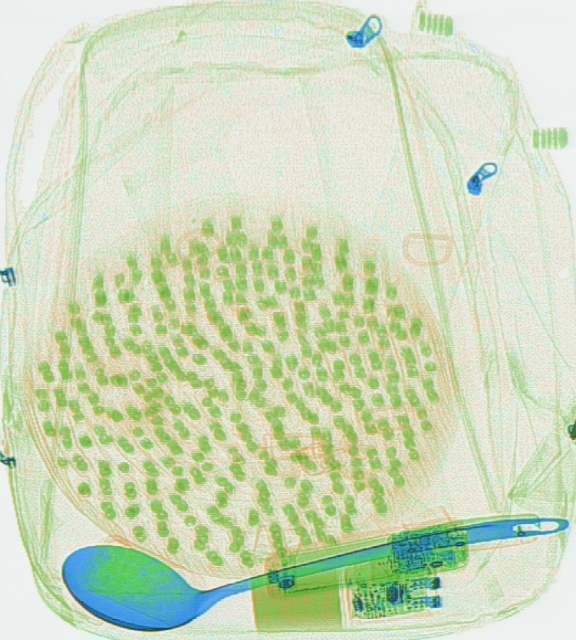firecrackers: (16, 193, 468, 583)
